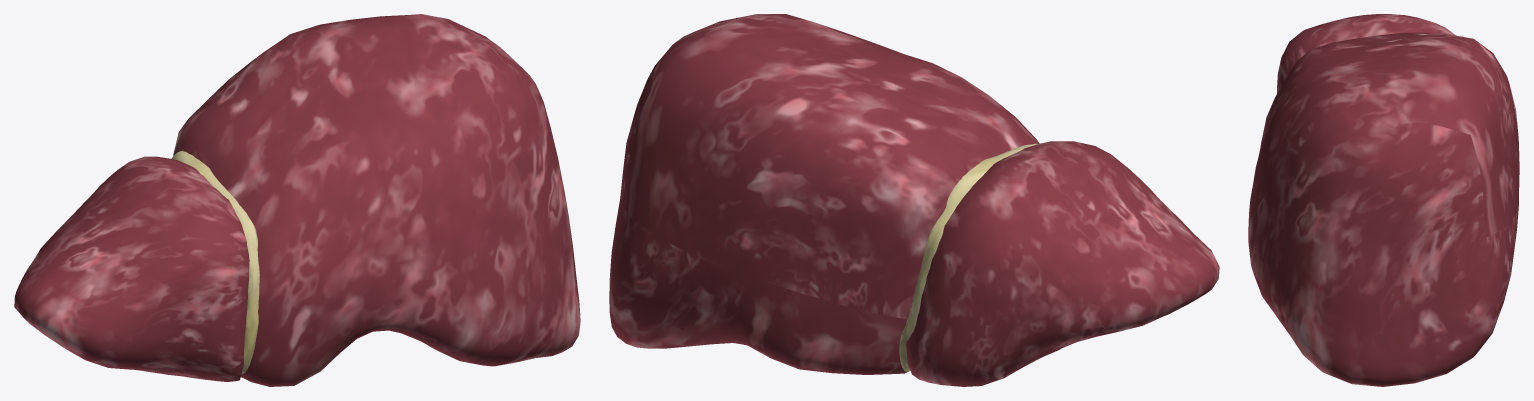
The model's file is liver_meat.glb.
3 views of the same model, side by side, from view 1: azimuth 30°, elevation 25°; view 2: azimuth 150°, elevation 25°; view 3: azimuth 270°, elevation 25° (orthographic). The views are drawn at different scales.
Visible parts, largest first — view 1: Liver; view 2: Liver; view 3: Liver.
Boxes of the visible parts, x1,y1,x2,y2 form: Liver: [14, 14, 580, 386]; Liver: [609, 14, 1219, 386]; Liver: [1248, 14, 1519, 386].
Size of the model in its own units: 2.57 by 1.44 by 1.3.
3 materials, 3 textured.
